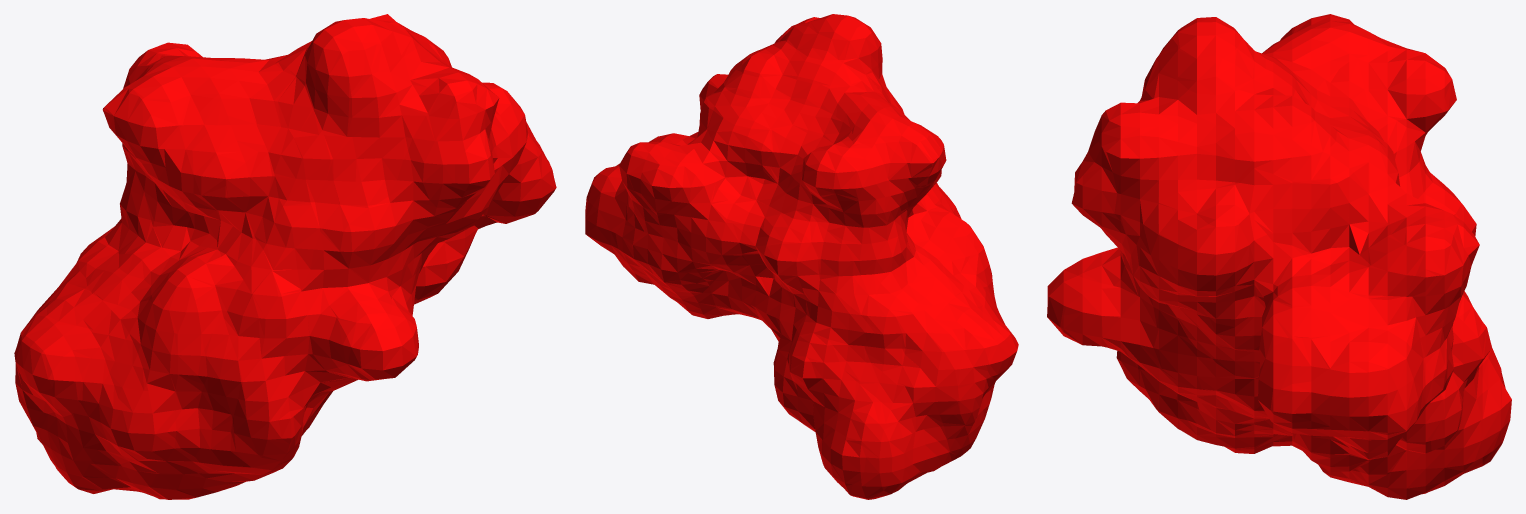
The model's file is glgB_coarse.dae.
3 renders of one model, left to right at view 1: azimuth 30°, elevation 25°; view 2: azimuth 150°, elevation 25°; view 3: azimuth 270°, elevation 25°, orthographic. The views are drawn at different scales.
Parts seen in each view (by area): view 1: glgB; view 2: glgB; view 3: glgB.
Part boxes in pixels (x1,y1,x2,y2): glgB: [14, 14, 556, 499]; glgB: [585, 14, 1018, 499]; glgB: [1047, 14, 1511, 499].
Size of the model in its own units: 93.72 by 85.58 by 67.43.
